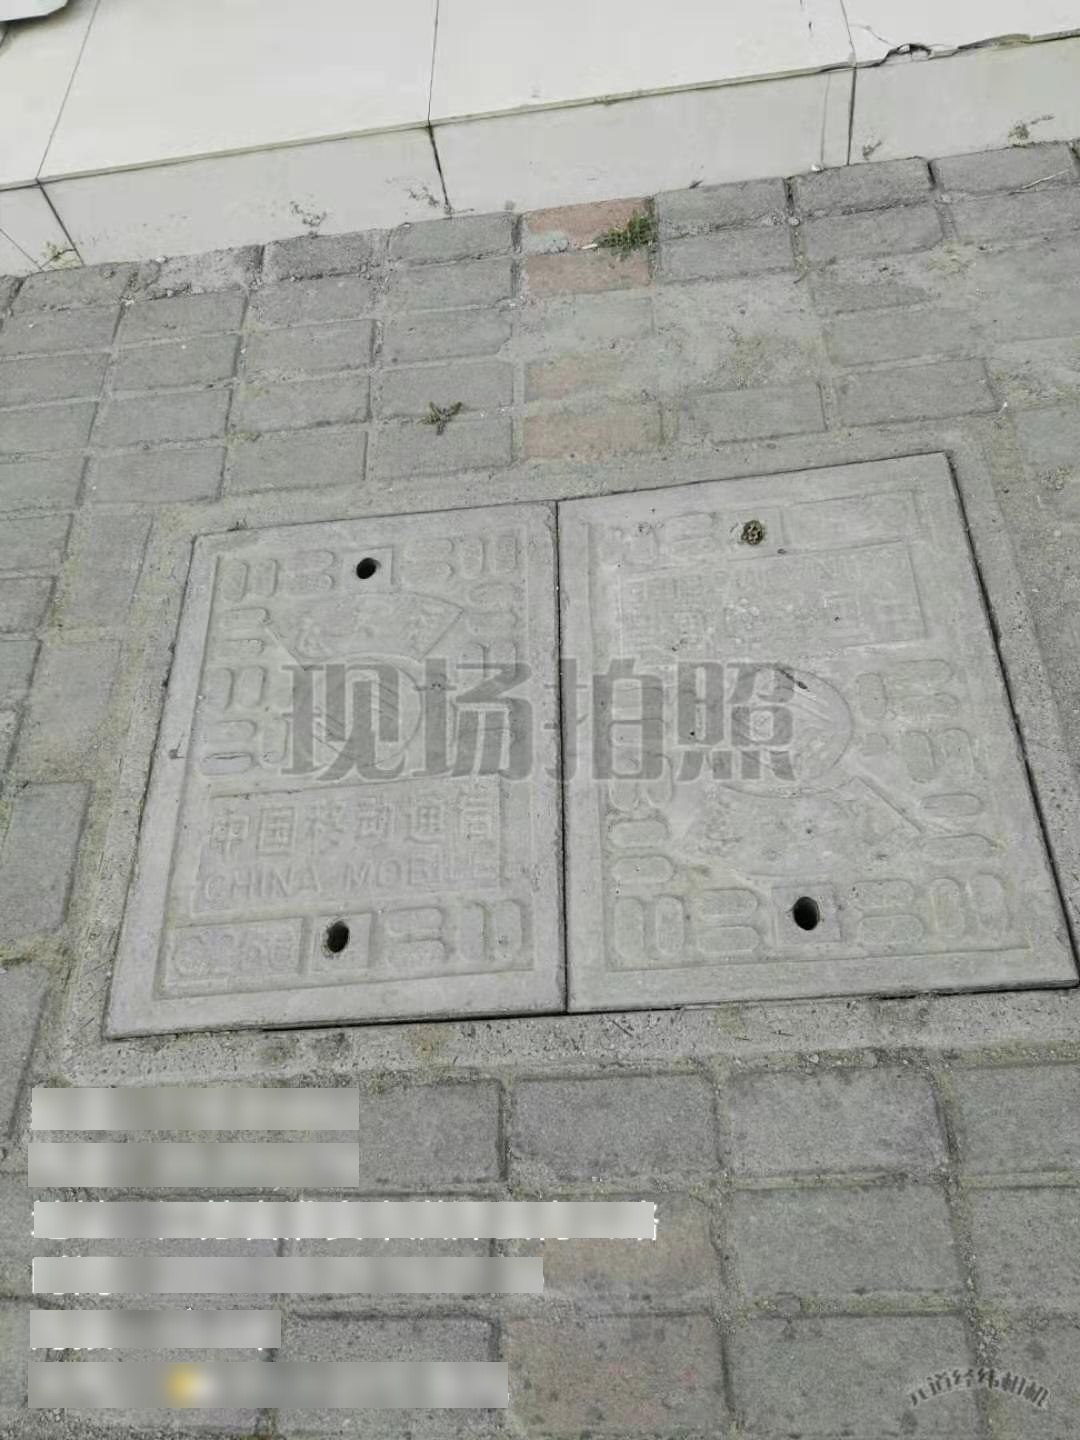good: (93, 431, 1080, 1079)
